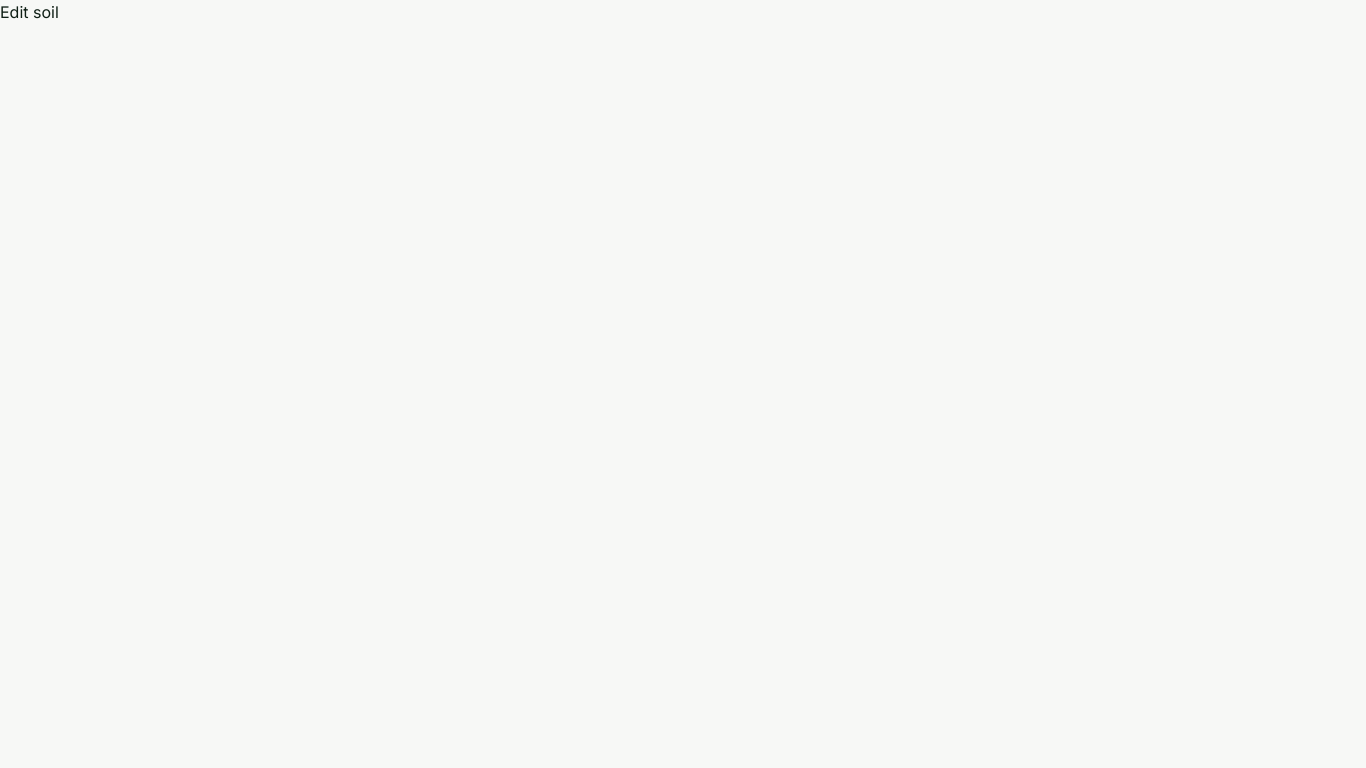
soil editor freshness › blocks saving until the opening read resolves
Later steps or results of the test are not shown.
Click the button "Edit soil": x=29, y=12 left=0, top=0, right=59, bottom=24
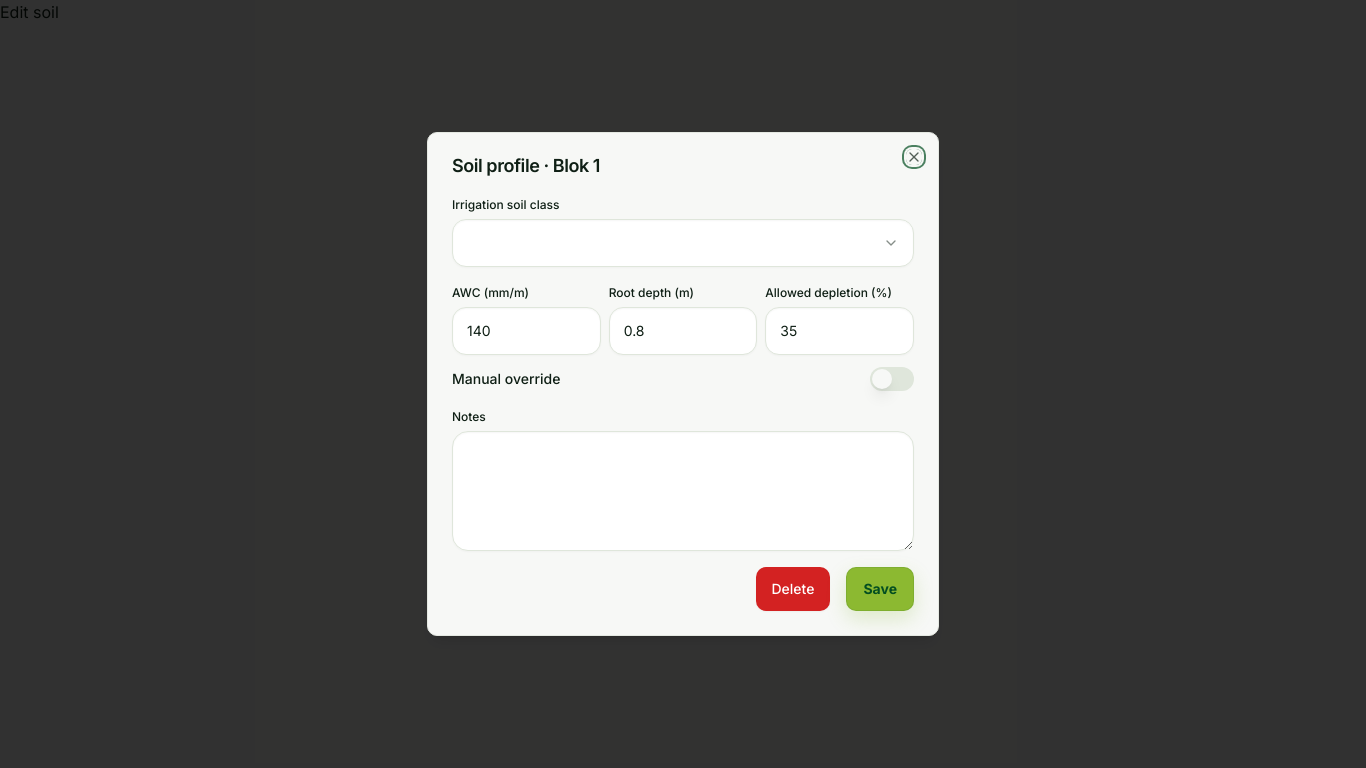
Result: the button "Save" is enabled at left=846, top=567, right=914, bottom=611
Result: the number field below "AWC (mm/m)" holds "140" at left=452, top=307, right=601, bottom=355
